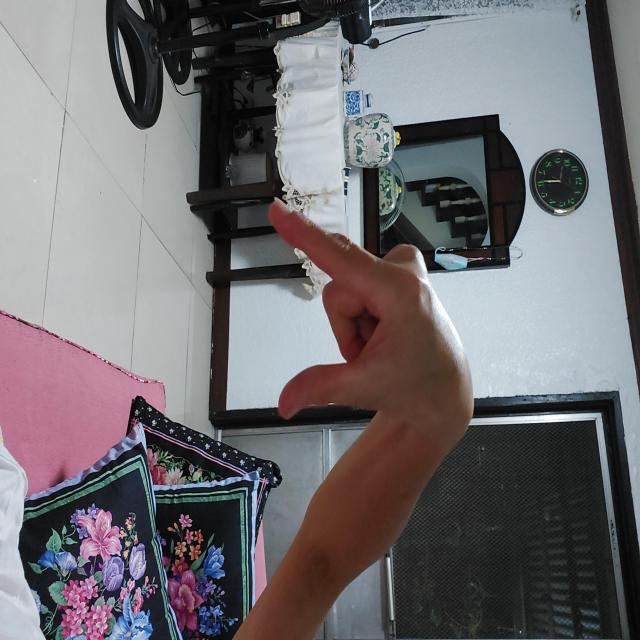Q: (198, 165, 423, 372)
